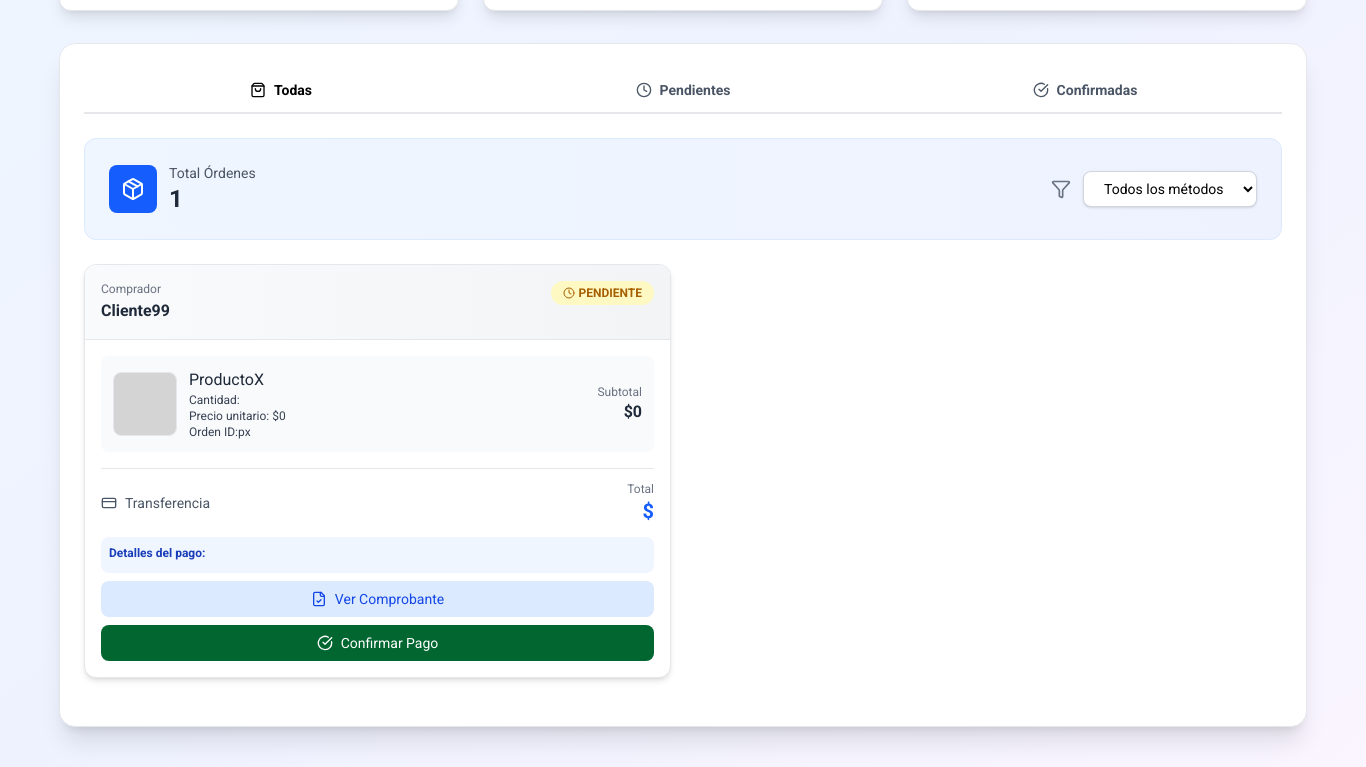
Test case: Historial - Vendedor (ampliado) › Permite ver el comprobante y confirmar el pago de una venta
This screenshot has width=1366, height=767.
(page scrolled)
Check: the text "ProductoX" is shown, box [189,370,264,389]
Check: the link "Ver Comprobante" is shown, box [101,581,654,617]
Click the button "Confirmar Pago". click: (378, 643)
box: [101,625,654,661]
(page scrolled)
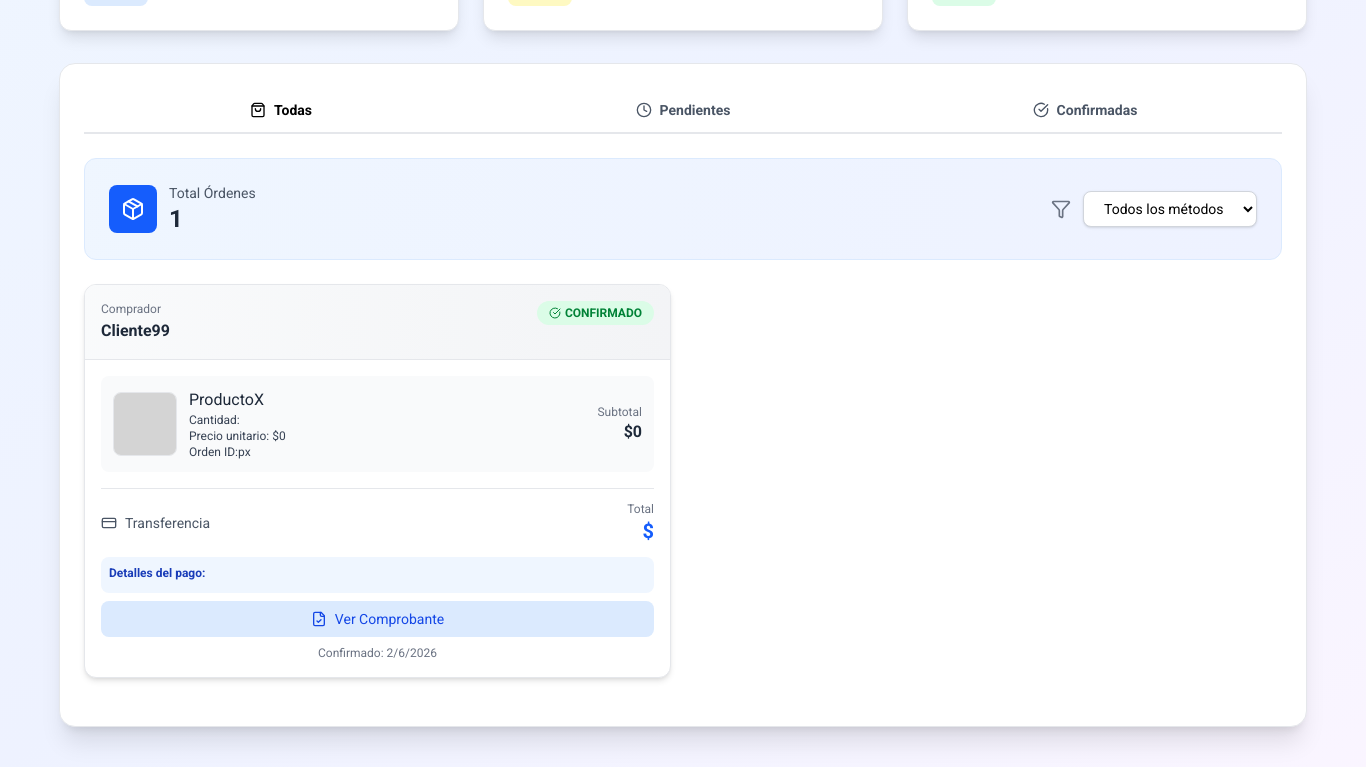
Check: the button "Confirmar Pago" is gone
Check: the text "CONFIRMADO" is shown, box [565,305,642,321]
